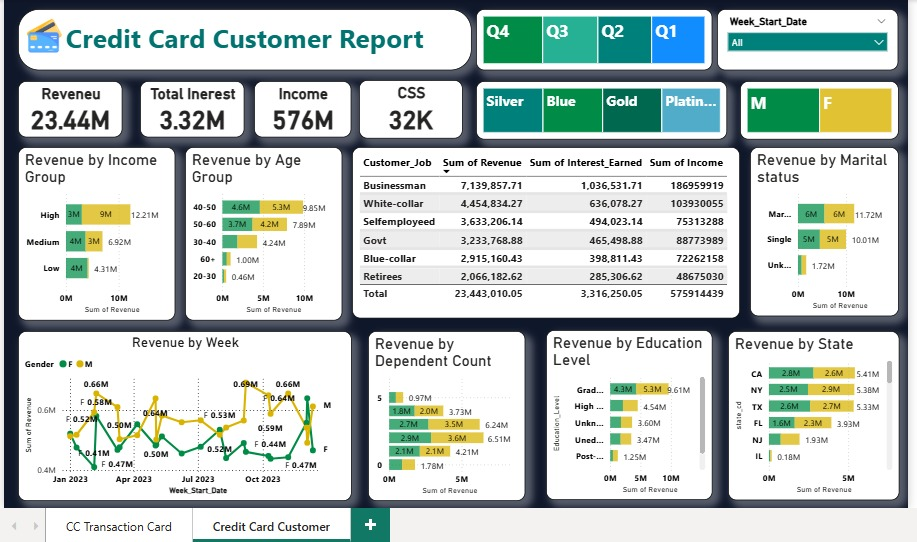

The page's visual inventory and layout, read from the dashboard file:
{"tool":"powerbi","page":{"name":"Credit Card Customer","canvas":[1280,720],"ordinal":1},"visuals":[{"type":"textbox","box":[20.4,13.1,642.9,87.3],"z":0},{"type":"treemap","fields":{"Group":["credit_card.Qtr"],"Values":["Avg(credit_card.Client_Num)"]},"box":[669.1,13.1,334.5,87.3],"z":1000},{"type":"slicer","fields":{"Values":["credit_card.Week_Start_Date"]},"box":[1010.9,13.1,257.5,87.3],"z":2000},{"type":"card","title":"Reveneu","fields":{"Values":["Sum(credit_card.Revenue)"]},"box":[20.4,114.9,148.4,80],"z":3000},{"type":"card","title":"Total Inerest","fields":{"Values":["Sum(credit_card.Interest_Earned)"]},"box":[193.5,114.9,148.4,80],"z":4000},{"type":"card","title":"Income","fields":{"Values":["Sum(customer.Income)"]},"box":[354.9,114.9,138.2,80],"z":5000},{"type":"card","title":"CSS","fields":{"Values":["Sum(customer.Cust_Satisfaction_Score)"]},"box":[503.3,113.5,146.9,82.9],"z":6000},{"type":"treemap","fields":{"Group":["credit_card.Card_Category"],"Values":["Avg(credit_card.Client_Num)"]},"box":[669.1,114.9,356.4,82.9],"z":7000},{"type":"treemap","fields":{"Group":["customer.Gender"],"Values":["Avg(credit_card.Client_Num)"]},"box":[1042.9,114.9,225.5,82.9],"z":8000},{"type":"barChart","title":"Revenue by Income Group","fields":{"Category":["customer.IncomeGroup"],"Series":["customer.Gender"],"Y":["Sum(credit_card.Revenue)"]},"box":[20.4,208,222.5,245.8],"z":9000},{"type":"barChart","title":"Revenue by Age Group","fields":{"Series":["customer.Gender"],"Y":["Sum(credit_card.Revenue)"],"Category":["customer.AgeGroup"]},"box":[256,208,222.5,245.8],"z":10000},{"type":"tableEx","fields":{"Values":["customer.Customer_Job","Sum(credit_card.Revenue)","Sum(credit_card.Interest_Earned)","Sum(customer.Income)"]},"box":[493.1,208,549.8,242.9],"z":11000},{"type":"barChart","title":"Revenue by Marital status","fields":{"Series":["customer.Gender"],"Y":["Sum(credit_card.Revenue)"],"Category":["customer.Marital_Status"]},"box":[1057.5,208,210.9,240],"z":12000},{"type":"lineChart","title":"Revenue by Week","fields":{"Y":["Sum(credit_card.Revenue)"],"Category":["credit_card.Week_Start_Date"],"Series":["customer.Gender"]},"box":[20.4,469.8,472.7,241.5],"z":13000},{"type":"barChart","title":"Revenue by Dependent Count","fields":{"Series":["customer.Gender"],"Y":["Sum(credit_card.Revenue)"],"Category":["customer.Dependent_Count"]},"box":[516.4,469.8,222.5,241.5],"z":14000},{"type":"barChart","title":"Revenue by Education Level","fields":{"Series":["customer.Gender"],"Y":["Sum(credit_card.Revenue)"],"Category":["customer.Education_Level"]},"box":[768,468.4,235.6,241.5],"z":15000},{"type":"barChart","title":"Revenue by State","fields":{"Series":["customer.Gender"],"Y":["Sum(credit_card.Revenue)"],"Category":["customer.state_cd"]},"box":[1025.5,469.8,242.9,240],"z":16000},{"type":"image","box":[31.2,12.8,52.4,76.5],"z":17000}]}

Visuals, with their boxes in screenshot pixels (x1, y1, x2, y2):
textbox: BBox(17, 7, 471, 69)
treemap - credit_card.Qtr x Avg(credit_card.Client_Num): BBox(475, 7, 711, 69)
slicer - credit_card.Week_Start_Date: BBox(717, 7, 899, 69)
"Reveneu" card: BBox(17, 79, 122, 135)
"Total Inerest" card: BBox(139, 79, 244, 135)
"Income" card: BBox(253, 79, 351, 135)
"CSS" card: BBox(358, 78, 462, 136)
treemap - credit_card.Card_Category x Avg(credit_card.Client_Num): BBox(475, 79, 727, 137)
treemap - customer.Gender x Avg(credit_card.Client_Num): BBox(739, 79, 899, 137)
"Revenue by Income Group" barChart: BBox(17, 145, 174, 318)
"Revenue by Age Group" barChart: BBox(183, 145, 340, 318)
tableEx - customer.Customer_Job x Sum(credit_card.Revenue): BBox(351, 145, 739, 316)
"Revenue by Marital status" barChart: BBox(750, 145, 899, 314)
"Revenue by Week" lineChart: BBox(17, 330, 351, 500)
"Revenue by Dependent Count" barChart: BBox(367, 330, 524, 500)
"Revenue by Education Level" barChart: BBox(545, 329, 711, 499)
"Revenue by State" barChart: BBox(727, 330, 899, 499)
image: BBox(24, 7, 61, 61)
